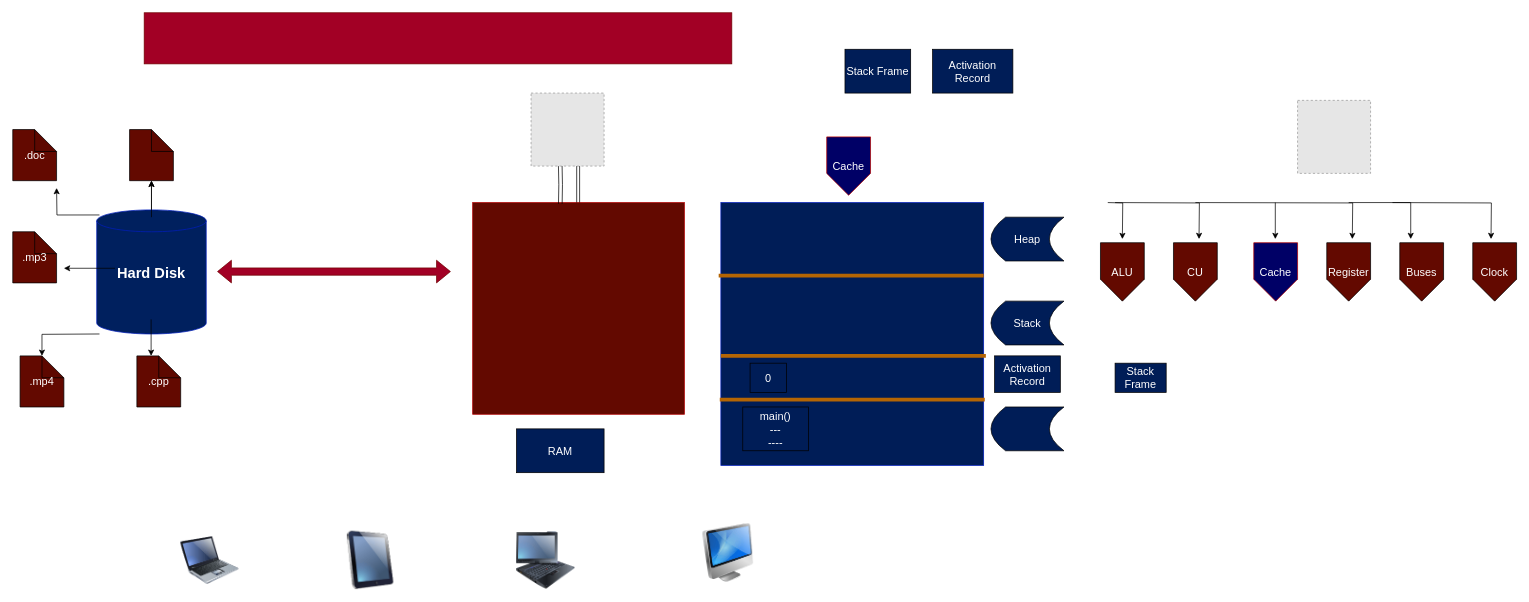
The diagram is 1529 pixels wide and 602 high, and some of its shapes have lost their labels. Grey dashed boxes stand in for pictures. The centre of each missing label's shape, as x and y in pixels:
. png: point (151, 155)
Code Section: point (1027, 428)
Data Structure | Memory Unit | Stack And Heap: point (437, 38)
Memory Unit: point (578, 308)
